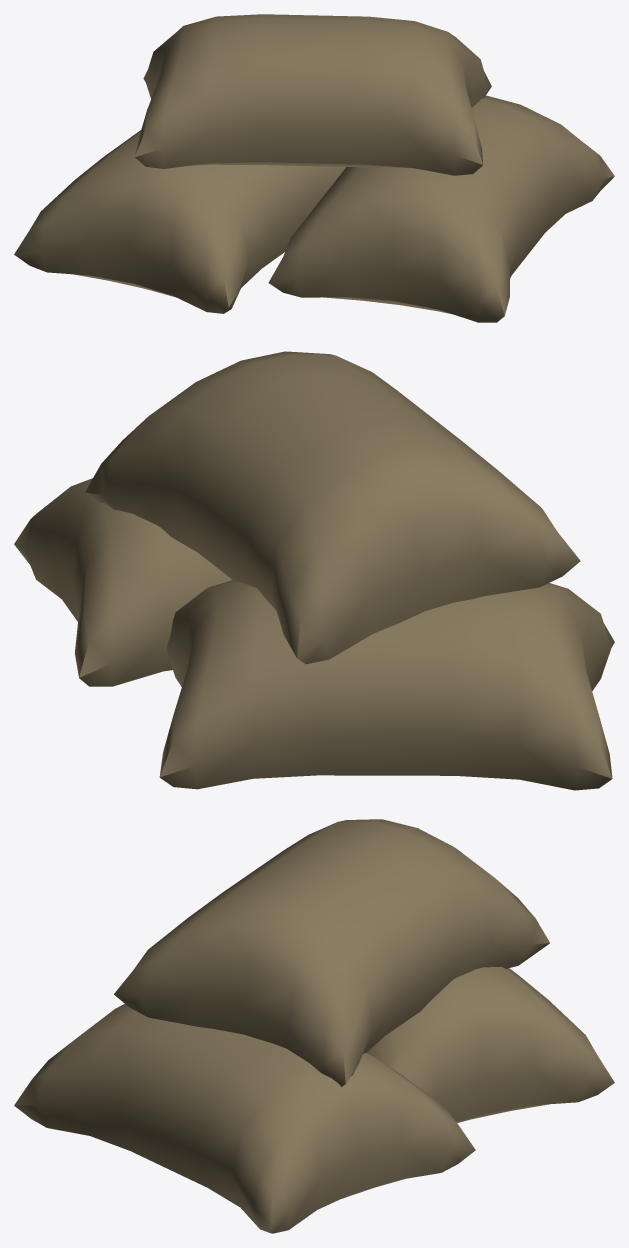
The model's file is Bags.glb.
The picture shows the model from 3 angles, top to bottom: view 1: azimuth 30°, elevation 25°; view 2: azimuth 150°, elevation 25°; view 3: azimuth 270°, elevation 25°; orthographic projection. The views are drawn at different scales.
Visible parts, largest first — view 1: Bags; view 2: Bags; view 3: Bags.
Part boxes in pixels (x1=…): Bags: x1=14, y1=14, x2=614, y2=322; Bags: x1=14, y1=351, x2=614, y2=790; Bags: x1=14, y1=819, x2=614, y2=1233.
Size of the model in its own units: 0.2697 by 0.1071 by 0.2392.
